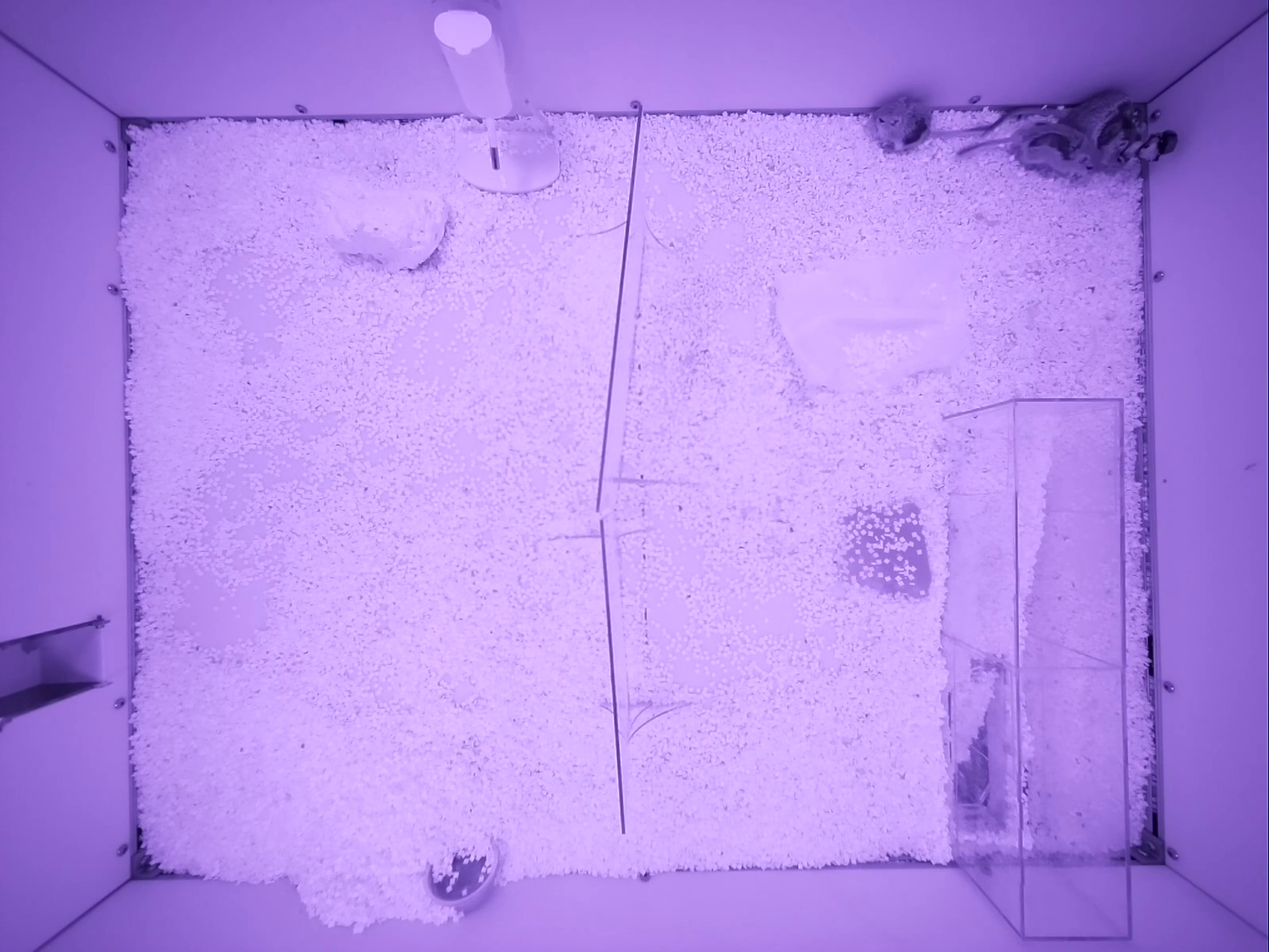adult_back: (1064, 90, 1178, 171), (957, 121, 1095, 182), (866, 95, 1003, 153)
